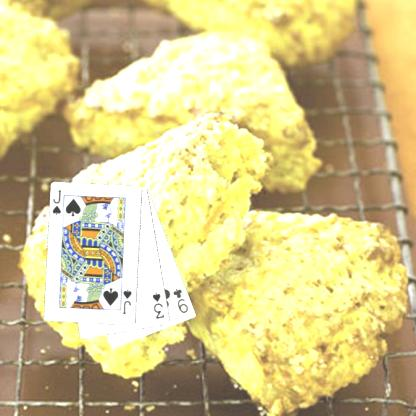3S: (150, 290, 166, 320)
9C: (171, 286, 190, 315)
JS: (121, 286, 134, 316), (50, 188, 62, 216)
